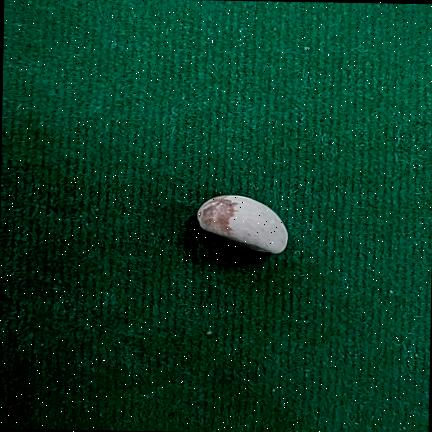immature: (197, 194, 288, 253)
